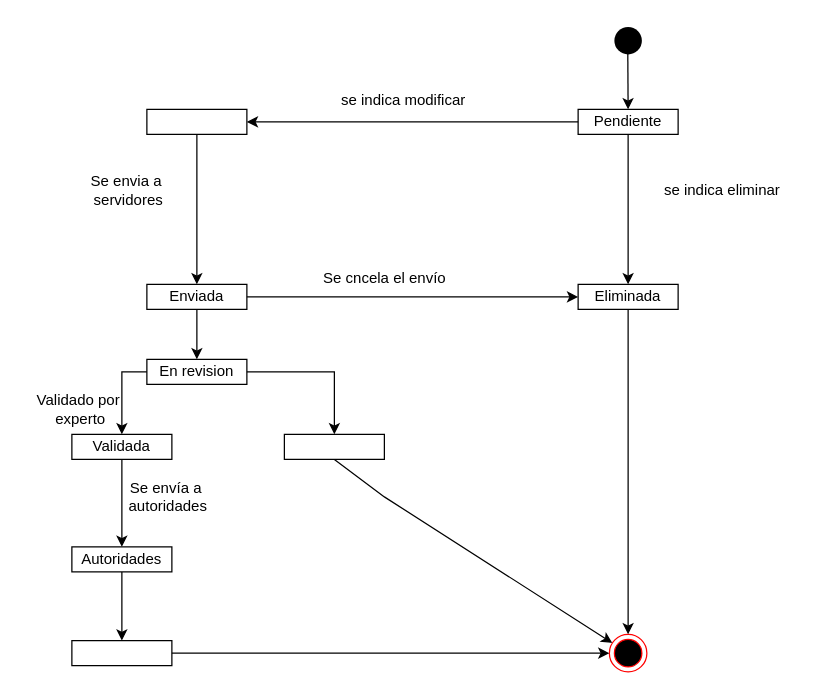
This 818x694 diagram has some shape labels left out. Here are the shapes that lost their labels. From the top down, the centre of each, then its label:
the point at 196,121: Modificada
the point at 333,446: Rechazada
the point at 121,652: Procesada
